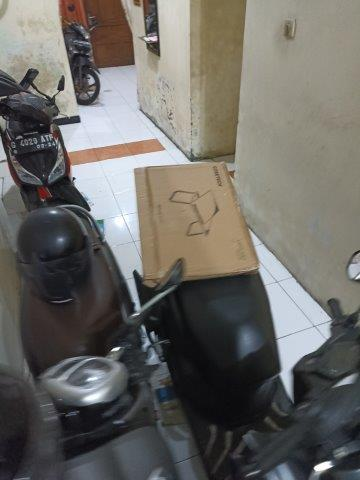kardus: (134, 164, 259, 284)
